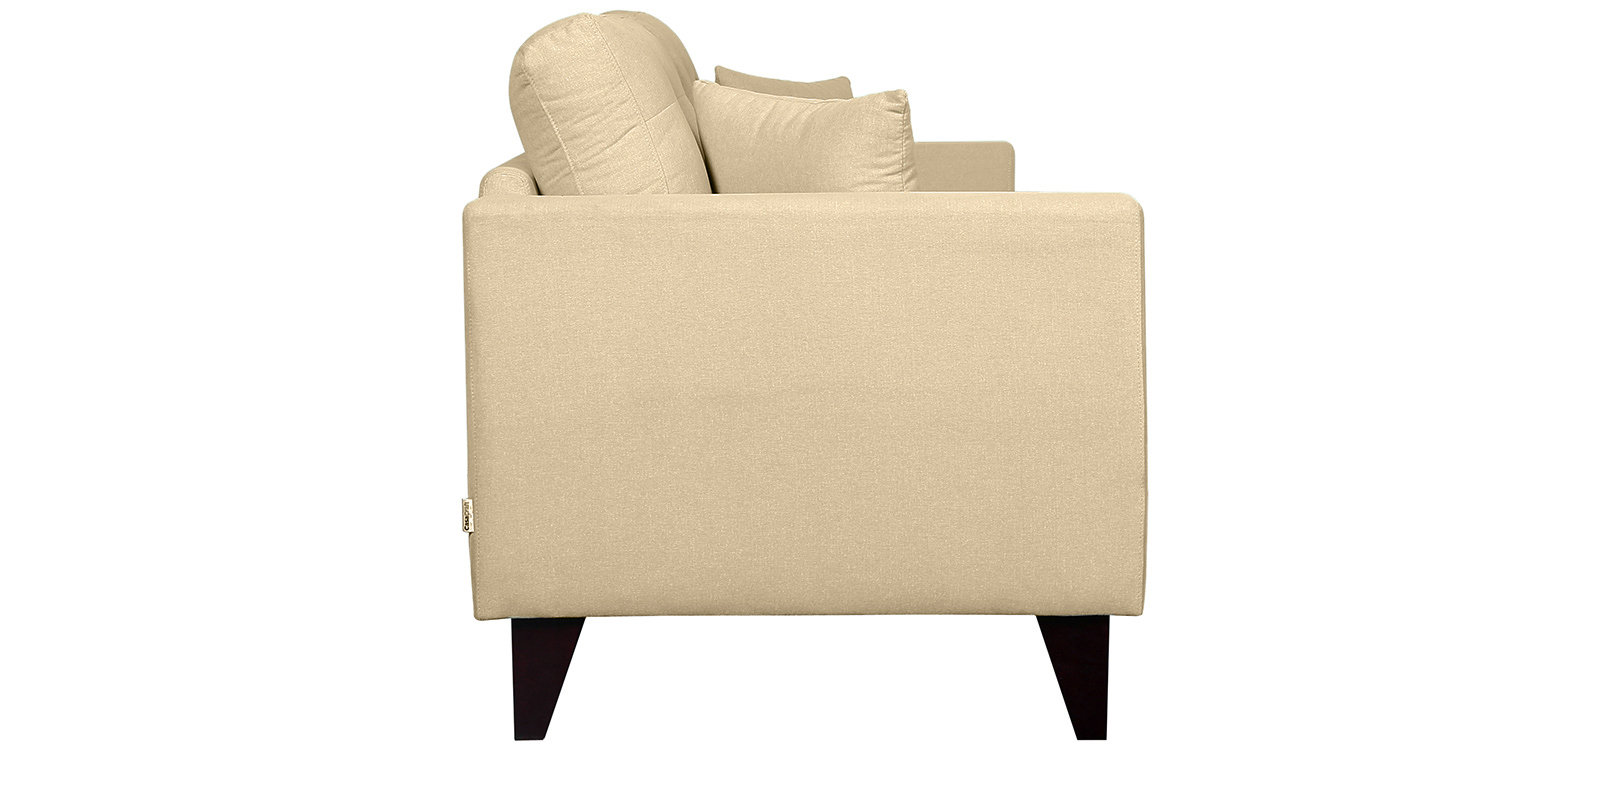Alfredo Three Seater Sofa in Beige Colour by CasaCraft: (420, 5, 1153, 754)
